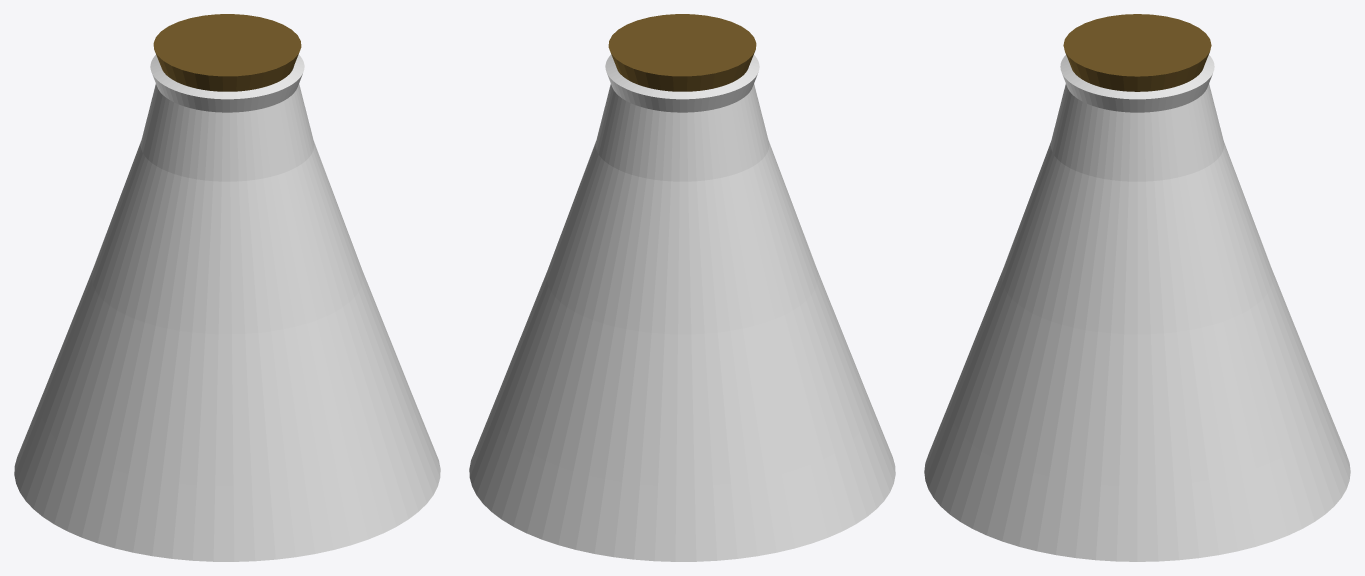
The model's file is potion4.fbx.
3 views of the same model, side by side, from view 1: azimuth 30°, elevation 25°; view 2: azimuth 150°, elevation 25°; view 3: azimuth 270°, elevation 25° (orthographic).
Parts seen in each view (by area): view 1: Glass, Cork; view 2: Glass, Cork; view 3: Glass, Cork.
Boxes of the visible parts, <box> form: Glass: <box>14,54,440,561</box>; Cork: <box>153,14,301,91</box>; Glass: <box>469,54,895,561</box>; Cork: <box>608,14,756,91</box>; Glass: <box>924,55,1350,561</box>; Cork: <box>1063,14,1211,91</box>.
Bounding box in the file's own units: 199 × 219 × 199.
